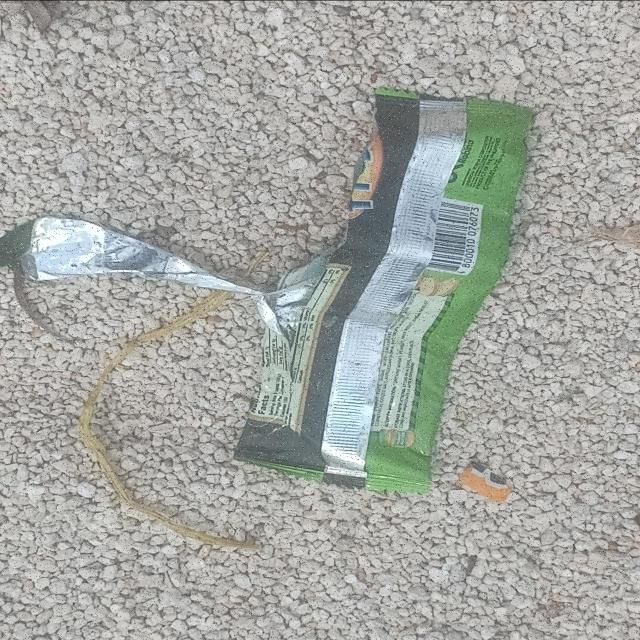plastic_waste: (234, 88, 536, 494)
